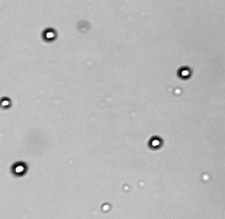Living Cell: (12, 161, 27, 176), (179, 65, 192, 80), (42, 29, 58, 41), (149, 134, 162, 148), (1, 95, 11, 108)
